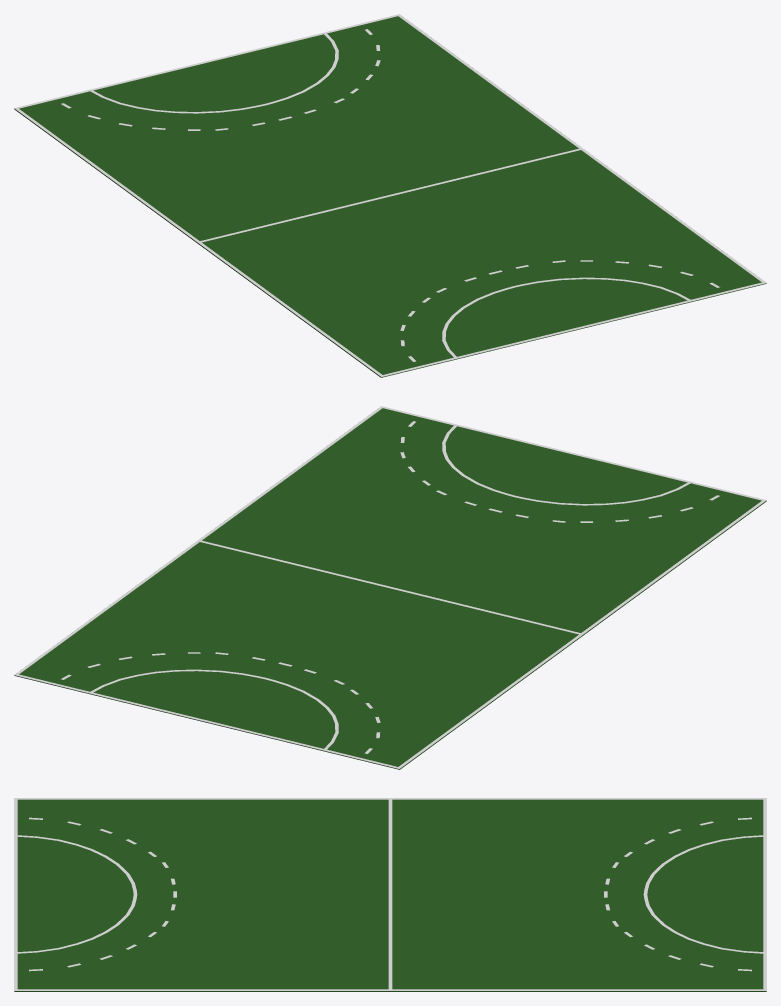
The model's file is Field Hockey.fbx.
The picture shows the model from 3 angles, top to bottom: view 1: azimuth 30°, elevation 25°; view 2: azimuth 150°, elevation 25°; view 3: azimuth 270°, elevation 25°; orthographic projection. The views are drawn at different scales.
Parts seen in each view (by area): view 1: Field Hockey; view 2: Field Hockey; view 3: Field Hockey.
Boxes of the visible parts, x1,y1,x2,y2 form: Field Hockey: [14, 14, 766, 377]; Field Hockey: [14, 406, 766, 769]; Field Hockey: [14, 798, 766, 991].
Bounding box in the file's own units: 16440 × 41.32 × 27126.
